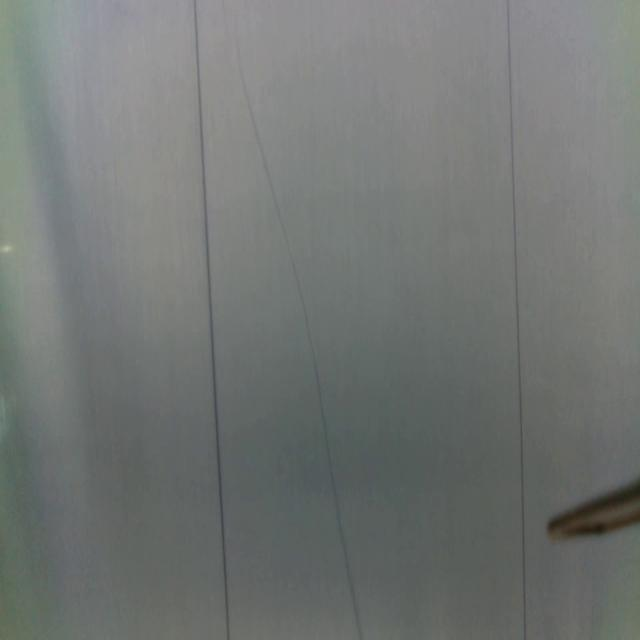crease: (236, 34, 362, 640), (193, 0, 229, 640), (507, 0, 528, 640)
